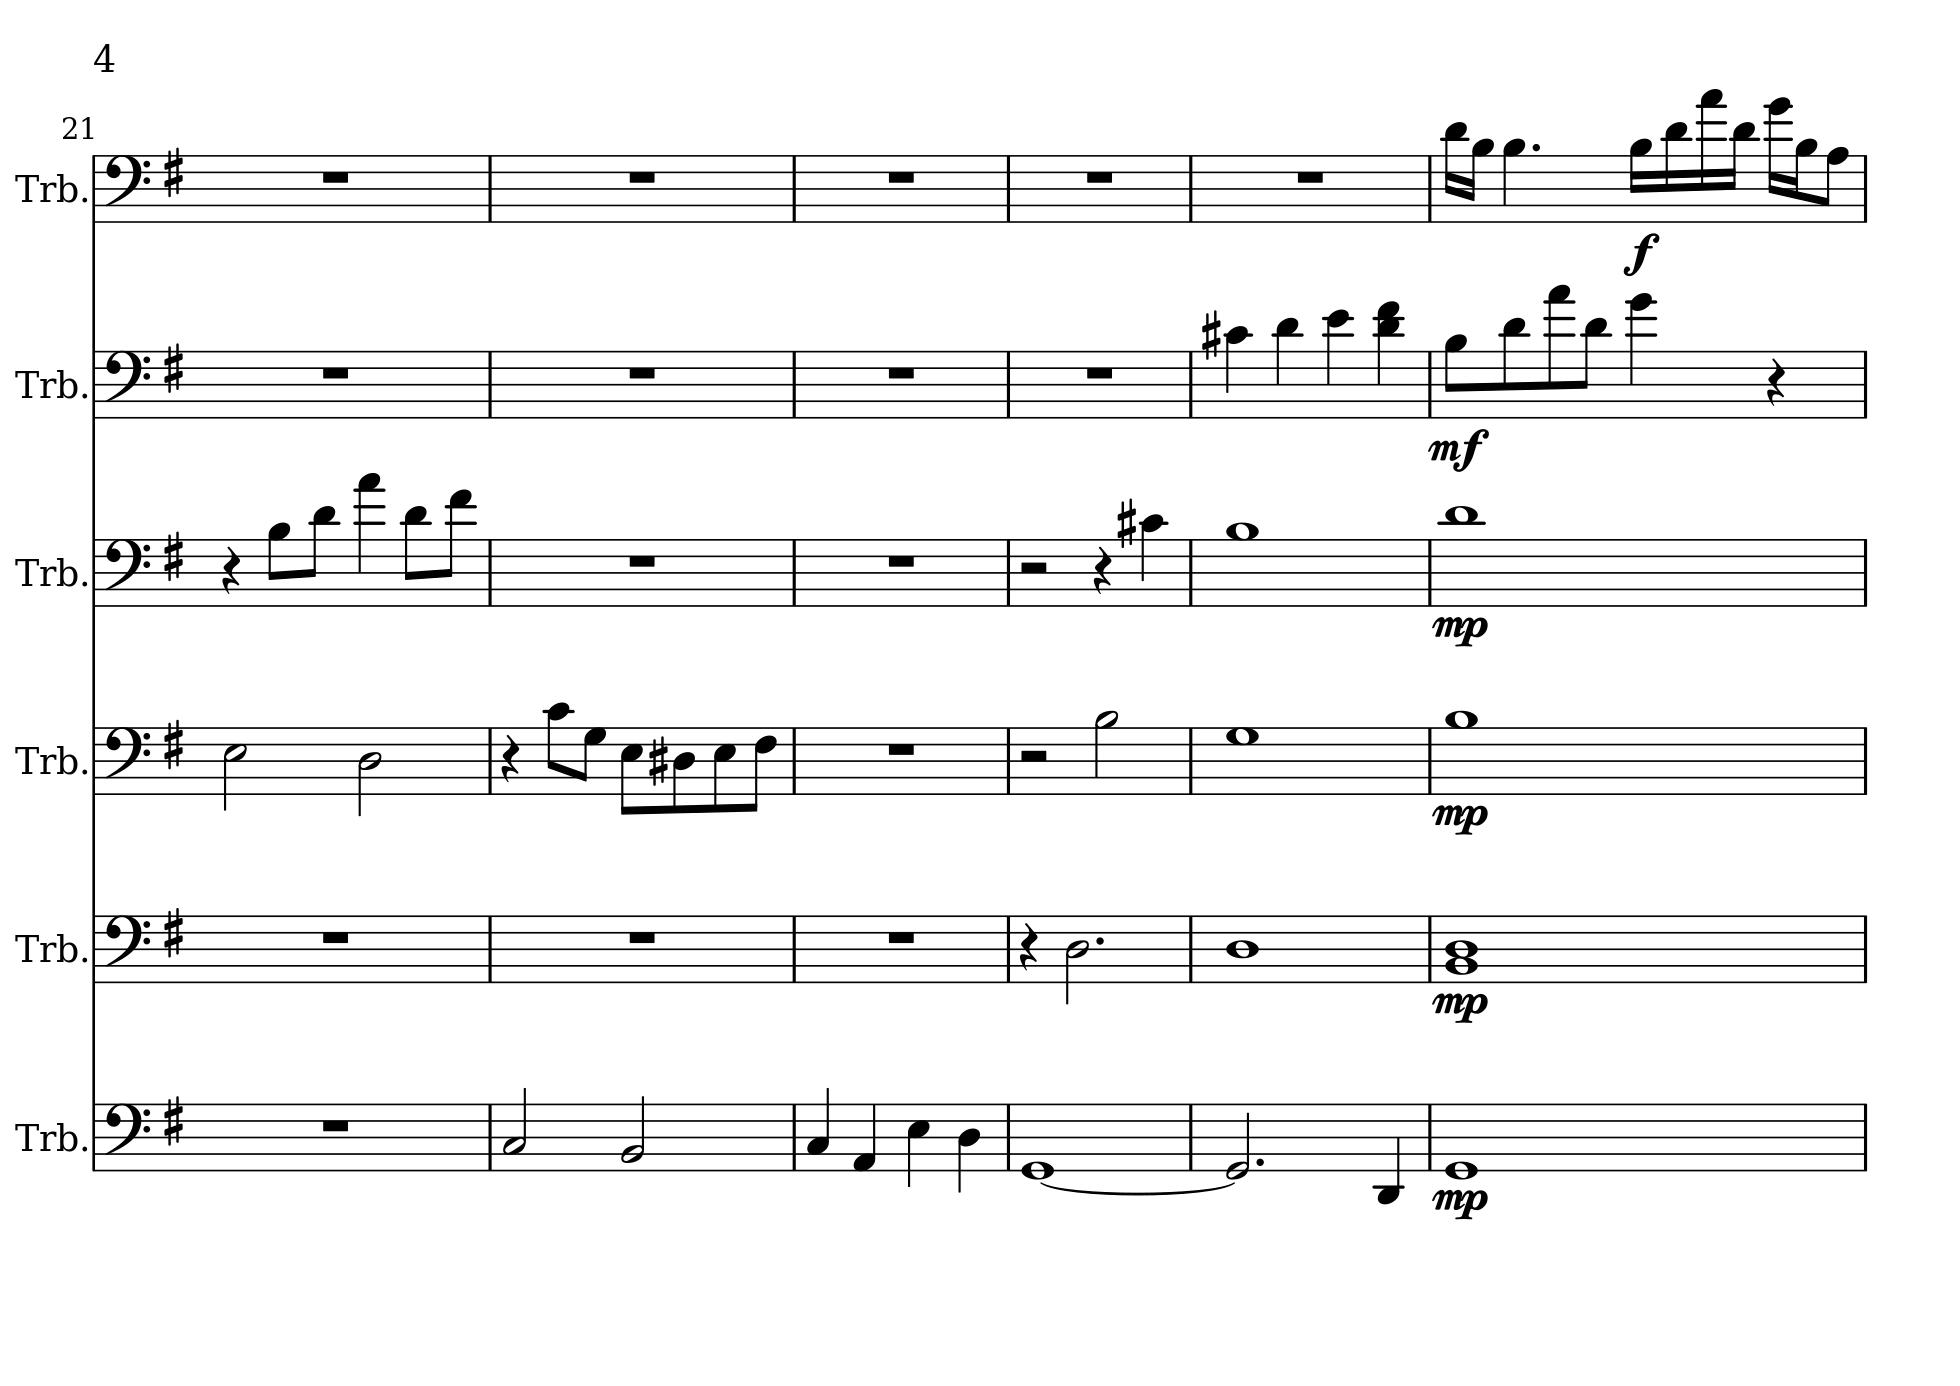1: (79, 114, 94, 142)
16_11: (1725, 120, 1758, 223), (1662, 118, 1689, 223), (1440, 118, 1467, 222)
16_14: (1764, 93, 1792, 223)
16_15: (1696, 87, 1725, 223)
16_9: (1464, 136, 1494, 223), (1791, 138, 1818, 223), (1627, 136, 1653, 223)
1_0: (1020, 1099, 1056, 1182), (1443, 1102, 1479, 1183)
1_11: (1441, 504, 1482, 607)
1_4: (1224, 910, 1260, 985)
1_7: (1225, 724, 1260, 796)
1_9: (1224, 517, 1260, 609), (1443, 706, 1479, 795)
2: (60, 112, 79, 142)
2_0: (1224, 1099, 1252, 1180)
2_2: (618, 1093, 646, 1171)
2_3: (501, 1086, 528, 1171)
2_4: (355, 723, 384, 816), (1063, 912, 1092, 1005)
2_5: (220, 724, 247, 811)
2_9: (1092, 708, 1120, 796)
4: (91, 40, 115, 70)
4_-3: (1374, 1099, 1402, 1206)
4_1: (850, 1101, 877, 1173)
4_10: (1138, 511, 1167, 609), (1224, 324, 1251, 421)
4_11: (1273, 315, 1302, 420)
4_12: (1324, 307, 1353, 421)
4_14: (1626, 291, 1656, 420)
4_15: (352, 471, 385, 607)
4_3: (805, 1086, 829, 1171)
4_4: (957, 1099, 982, 1192)
4_5: (906, 1101, 930, 1188)
4_9: (1500, 136, 1527, 223)
8_10: (544, 700, 571, 795)
8_11: (1576, 313, 1609, 418), (304, 501, 336, 607), (1500, 315, 1527, 420), (400, 501, 427, 606)
8_13: (439, 486, 475, 607)
8_15: (1545, 282, 1573, 421)
8_4: (669, 724, 696, 814)
8_5: (709, 724, 736, 814), (616, 724, 642, 816)
8_6: (744, 724, 778, 813)
8_7: (577, 724, 604, 793)
8_8: (1821, 144, 1849, 223)
8_9: (1443, 331, 1468, 418), (265, 520, 289, 607)
Fclef: (100, 346, 151, 420), (100, 151, 151, 223), (100, 535, 151, 607), (102, 912, 151, 985), (102, 724, 151, 795), (100, 1099, 153, 1165)
Rests1: (316, 925, 352, 946), (318, 166, 354, 186), (316, 361, 352, 381), (883, 361, 919, 381), (883, 738, 919, 757), (883, 927, 919, 946), (316, 1114, 352, 1134), (1083, 361, 1117, 381), (624, 925, 658, 945), (1293, 166, 1329, 184), (624, 166, 658, 184), (885, 166, 919, 184), (1083, 166, 1117, 184), (625, 550, 660, 568), (883, 550, 918, 568), (625, 363, 660, 379)
Rests2: (1015, 745, 1054, 768), (1017, 556, 1054, 579)
Rests4: (219, 543, 241, 597), (1090, 544, 1113, 597), (498, 733, 520, 784), (1017, 922, 1039, 973), (1765, 355, 1786, 406)
Sharp: (157, 144, 187, 201), (160, 715, 186, 772), (160, 528, 186, 583), (160, 904, 186, 960), (160, 1092, 186, 1147), (160, 339, 184, 396), (1200, 307, 1221, 361), (1116, 495, 1137, 549), (646, 733, 667, 787)
Single_barline: (1419, 538, 1438, 606), (1182, 726, 1201, 793), (999, 727, 1018, 792), (1420, 726, 1438, 793), (1000, 538, 1018, 604), (1182, 538, 1200, 604), (1857, 154, 1873, 222), (481, 154, 498, 222), (786, 154, 802, 222), (1183, 154, 1200, 222), (1422, 349, 1438, 417), (1857, 349, 1873, 417), (786, 351, 802, 418), (1000, 1102, 1017, 1170), (481, 351, 498, 417), (481, 538, 498, 604), (1857, 538, 1873, 604), (481, 727, 498, 793), (1857, 727, 1873, 793), (1857, 915, 1873, 981), (481, 916, 498, 982), (786, 916, 802, 982), (1183, 916, 1200, 982), (1857, 1102, 1873, 1168), (87, 154, 102, 222), (1002, 154, 1017, 222), (1002, 351, 1017, 418), (1422, 915, 1437, 982), (1422, 1102, 1437, 1170), (1422, 154, 1437, 220), (1183, 351, 1198, 417), (787, 727, 802, 793), (483, 1104, 498, 1170), (787, 540, 802, 604), (1002, 916, 1017, 981), (787, 1104, 802, 1168), (1183, 1104, 1198, 1168), (88, 351, 102, 418), (88, 538, 100, 606), (88, 1102, 100, 1170), (88, 727, 100, 793), (88, 916, 100, 982)
Slur: (1041, 1183, 1240, 1195)
Trb: (10, 735, 79, 780), (10, 547, 78, 592), (12, 1111, 78, 1156), (10, 924, 78, 967), (10, 361, 78, 403), (10, 168, 78, 208)
dot: (1093, 933, 1107, 946), (1254, 1153, 1266, 1168), (1530, 141, 1542, 154)
f: (1620, 231, 1660, 276)
mf: (1426, 427, 1489, 472)
mp: (1431, 613, 1489, 649), (1431, 1185, 1489, 1221), (1431, 801, 1489, 835), (1431, 990, 1489, 1024)
